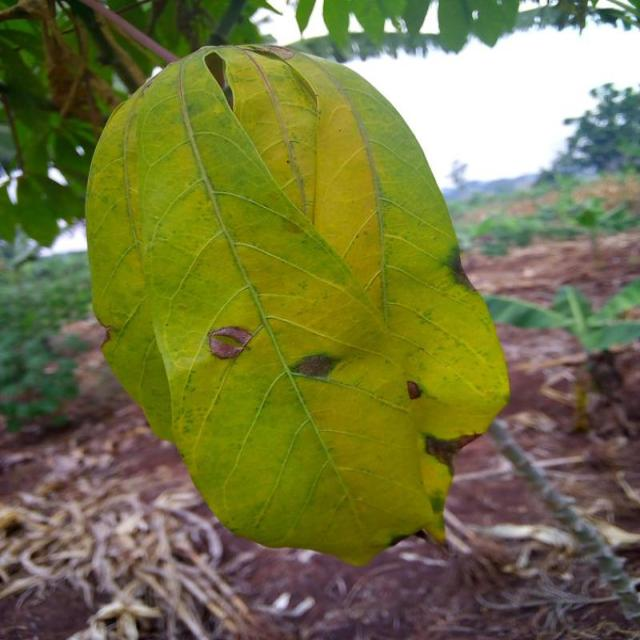cassava leaf: (83, 41, 511, 568)
